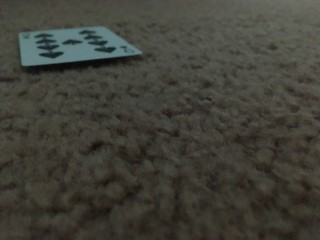NineOfSpades: (18, 26, 142, 66)
